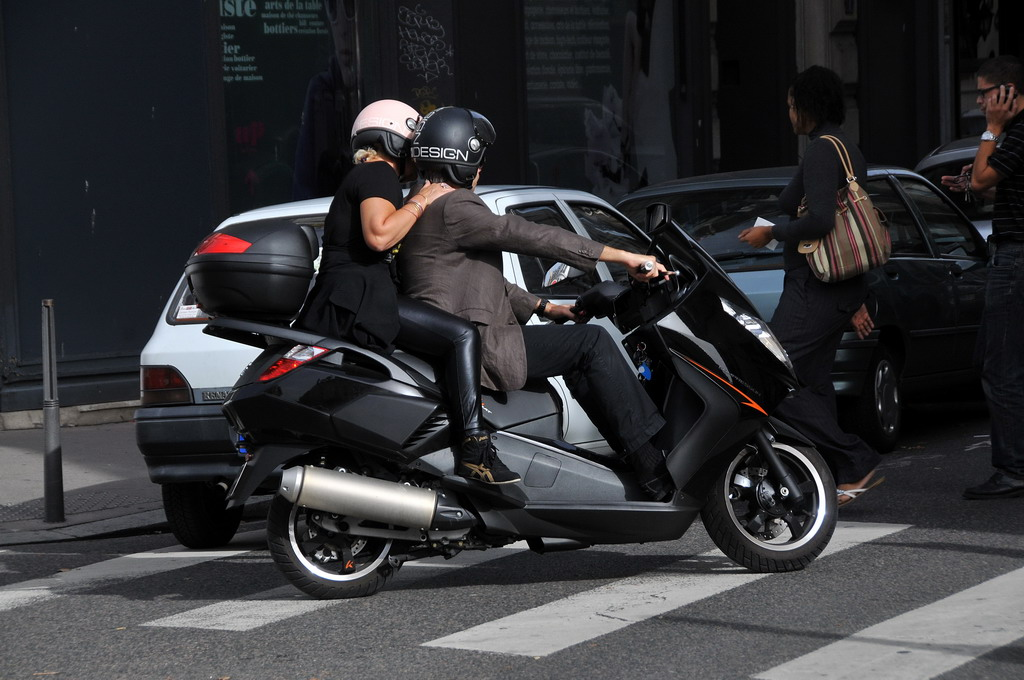helmet: (345, 98, 429, 170), (416, 107, 503, 174)
